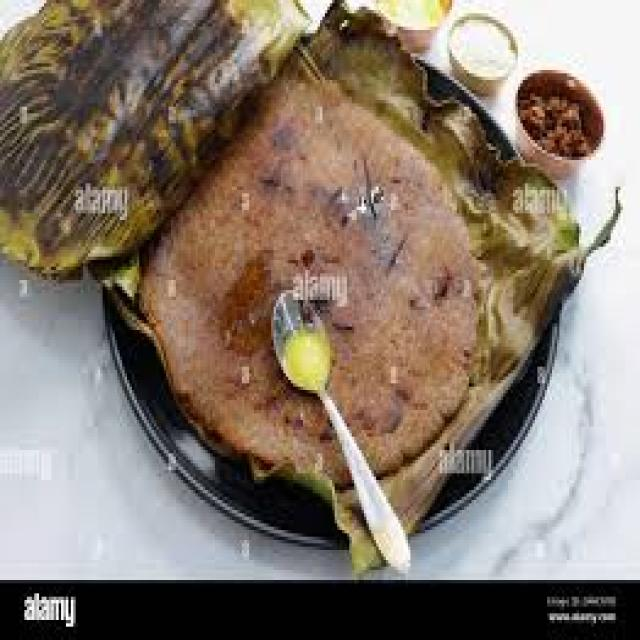DOSA: (134, 7, 552, 487)
